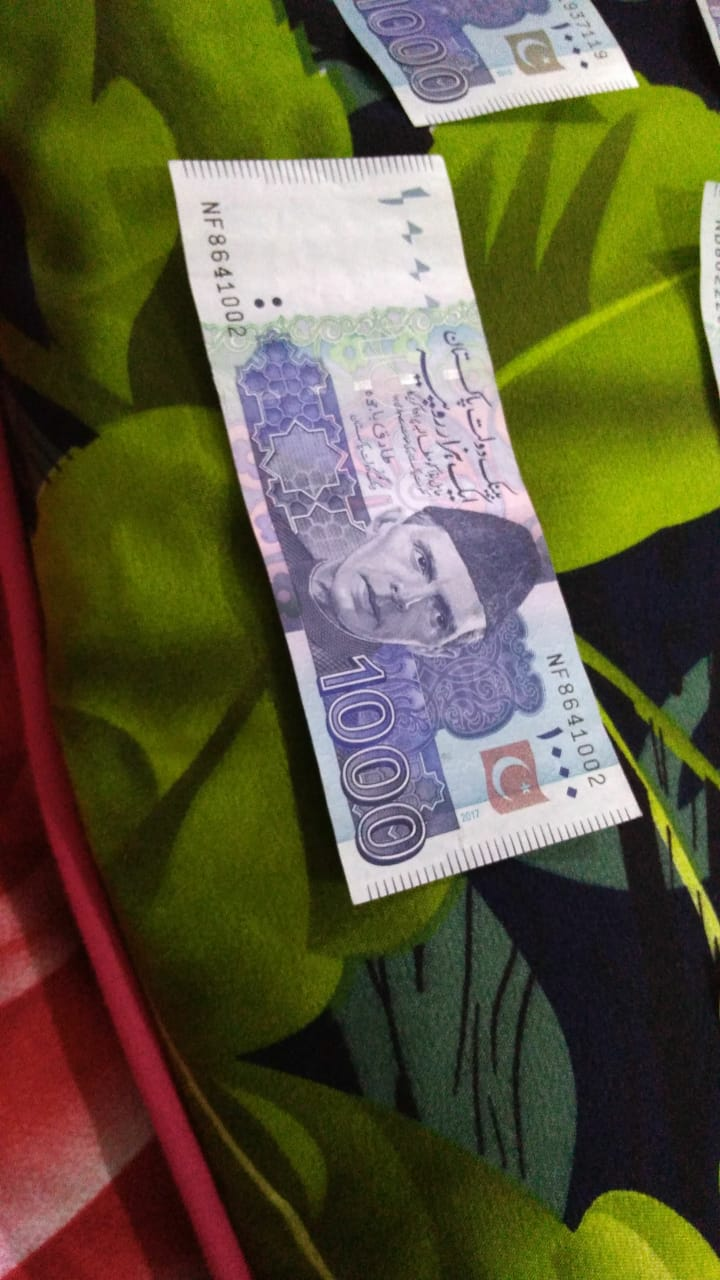1000 rupee: (164, 142, 643, 907)
